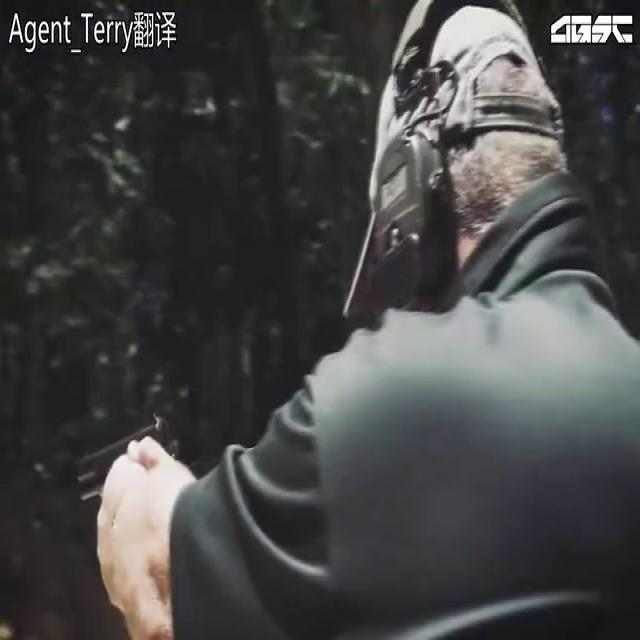gun-knife-thesis - v11 Yolov5 augmented: (58, 397, 211, 568)
